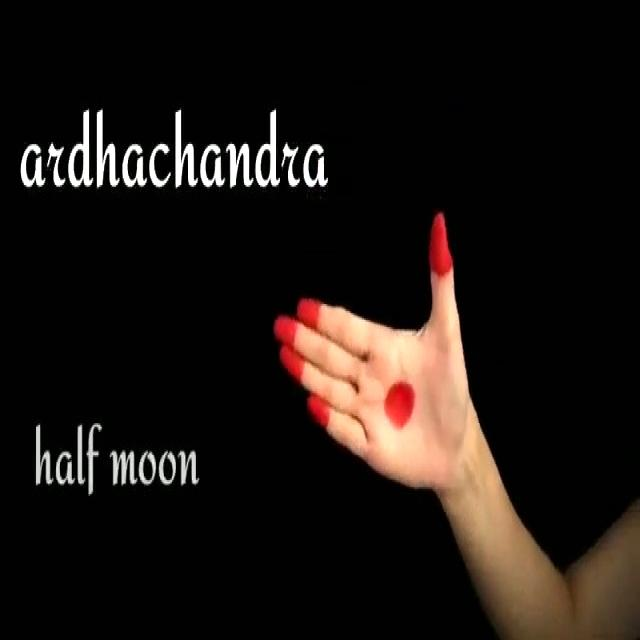Ardhachandra: (260, 202, 510, 500)
text: (12, 106, 334, 196), (22, 407, 209, 508)
